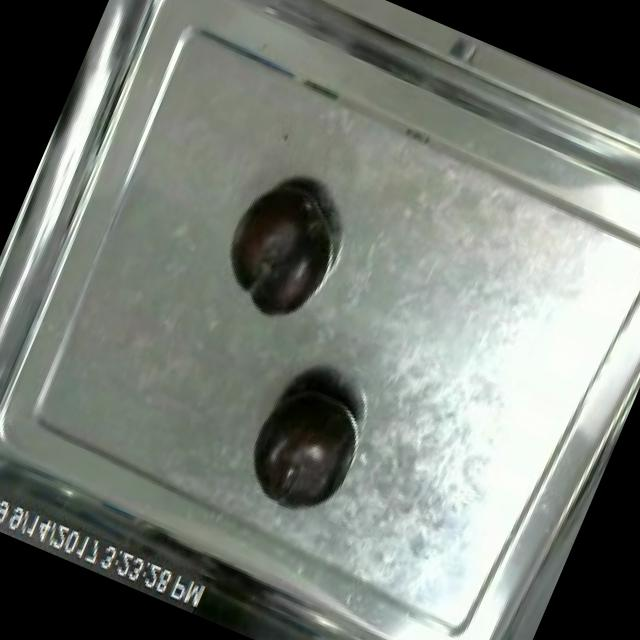Fruit: (230, 367, 375, 531), (205, 172, 349, 332)
